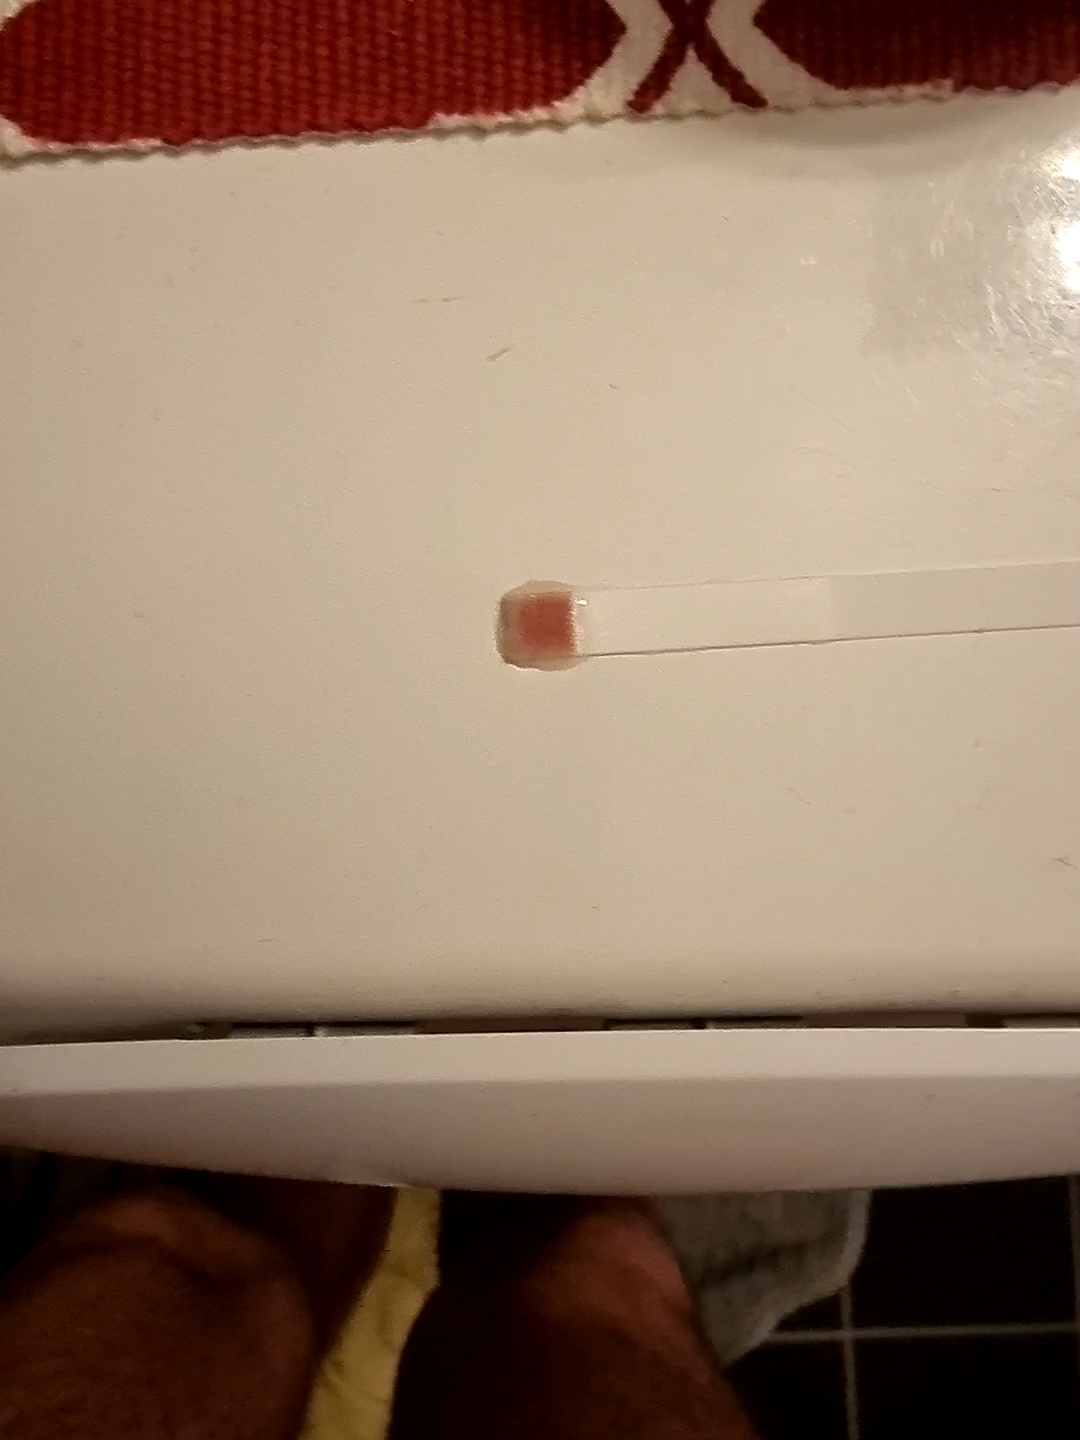keto-tip: (503, 591, 583, 668)
